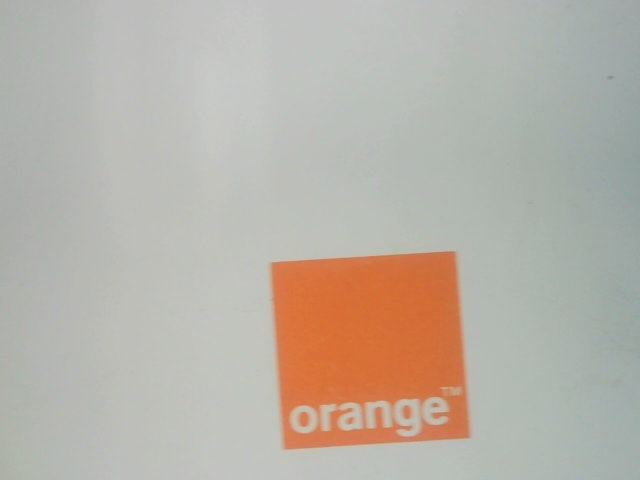AR_Orange: (258, 243, 481, 452)
